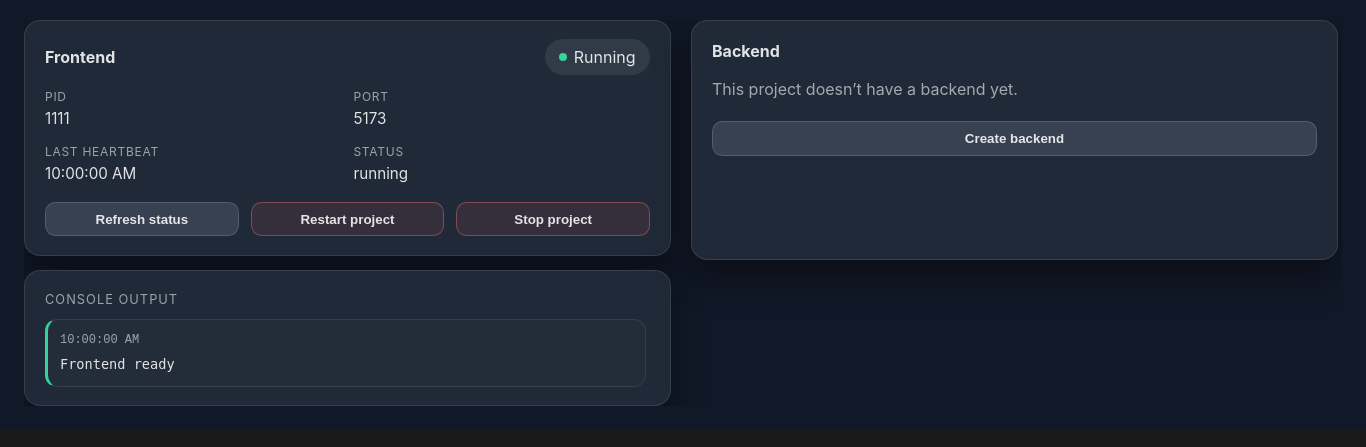
Scenario: ProcessesTab › shows fallback error when create backend fails without a message
Click the button with test id "process-create-backend" at (1014, 138), box [712,121,1317,156]
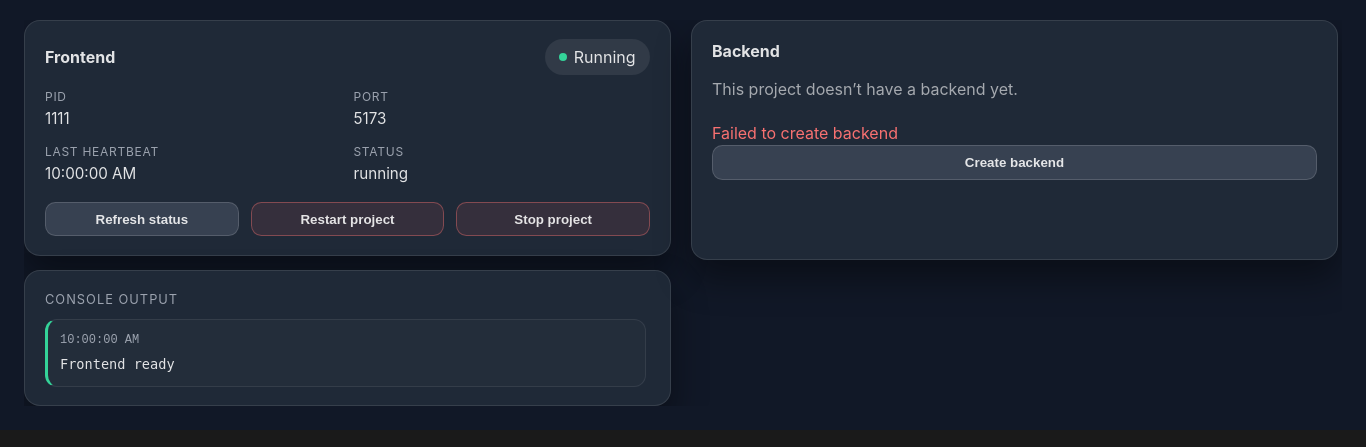
Check: the text "Failed to create backend" is shown, box [712,123,898,143]
